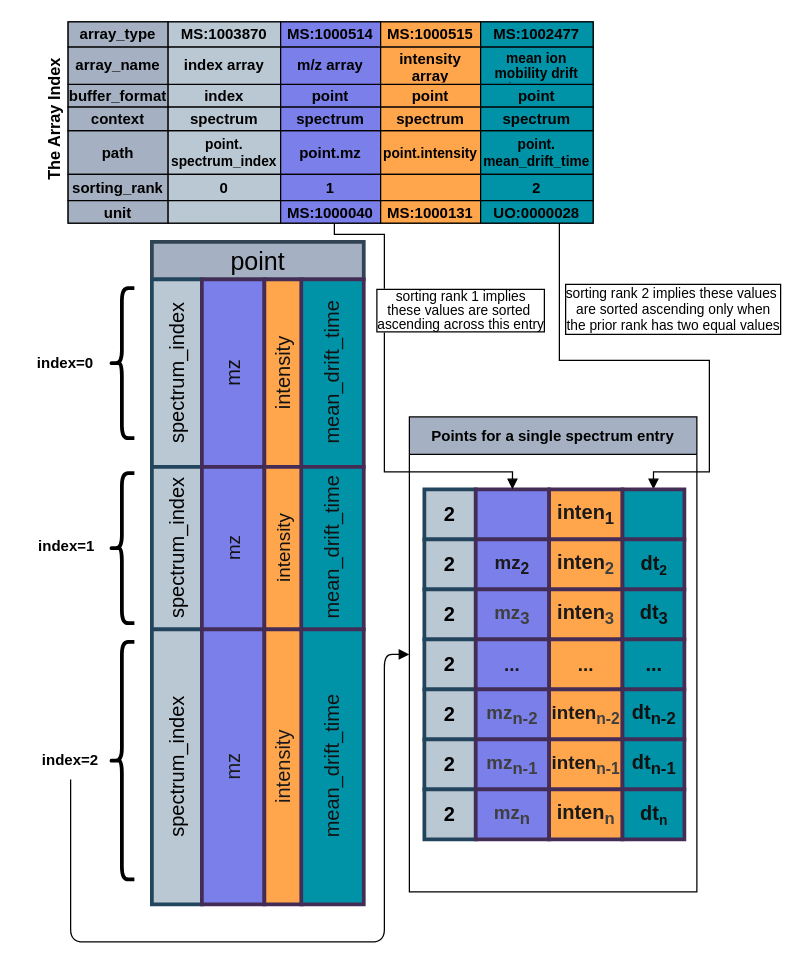
The diagram is 803 pixels wide and 974 high, and some of its shapes have lost their labels. The centre of each missing label's shape, as x and y in pixels:
"dt 1" goes at pixel 653 514.
"mz 1" goes at pixel 511 514.
